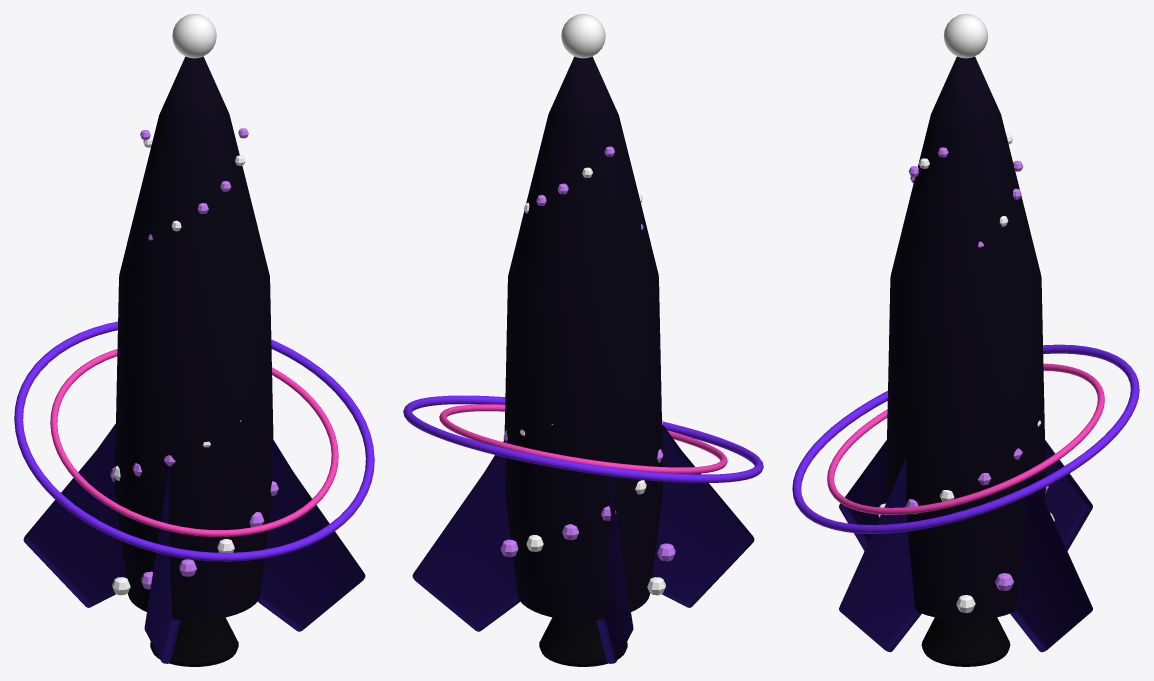
Rendered from Rocket_35_Galaxy.obj.
3 renders of one model, left to right at view 1: azimuth 30°, elevation 25°; view 2: azimuth 150°, elevation 25°; view 3: azimuth 270°, elevation 25°, orthographic.
Parts seen in each view (by area): view 1: R35_Body, R35_Fin_4, R35_Fin_2, R35_GalaxyDisc, R35_GalaxyDisc_2, R35_Fin_3, R35_Nozzle, R35_Core; view 2: R35_Body, R35_Fin, R35_Fin_3, R35_GalaxyDisc, R35_Fin_2, R35_GalaxyDisc_2, R35_Nozzle, R35_Core; view 3: R35_Body, R35_Fin, R35_Fin_4, R35_GalaxyDisc, R35_GalaxyDisc_2, R35_Nozzle, R35_Fin_2, R35_Fin_3, R35_Core.
Boxes of the visible parts, x1,y1,x2,y2 form: R35_Body: (114,56,273,620); R35_Fin_4: (258,437,365,631); R35_Fin_2: (23,423,125,607); R35_GalaxyDisc: (14,321,374,561); R35_GalaxyDisc_2: (50,349,338,536); R35_Fin_3: (144,467,181,663); R35_Nozzle: (150,617,238,666); R35_Core: (172,14,216,58); R35_Body: (504,56,663,620); R35_Fin: (412,439,519,631); R35_Fin_3: (652,424,754,607); R35_GalaxyDisc: (403,395,763,483); R35_Fin_2: (596,476,633,663); R35_GalaxyDisc_2: (439,404,727,474); R35_Nozzle: (539,617,627,666); R35_Core: (561,14,605,58); R35_Body: (886,56,1045,620); R35_Fin: (1010,454,1092,652); R35_Fin_4: (839,454,921,652); R35_GalaxyDisc: (792,344,1139,533); R35_GalaxyDisc_2: (827,363,1104,514); R35_Nozzle: (921,617,1010,666); R35_Fin_2: (1044,440,1092,550); R35_Fin_3: (839,440,887,550); R35_Core: (943,14,988,58).
Size of the model in its own units: 4.1 by 7.85 by 3.9.
